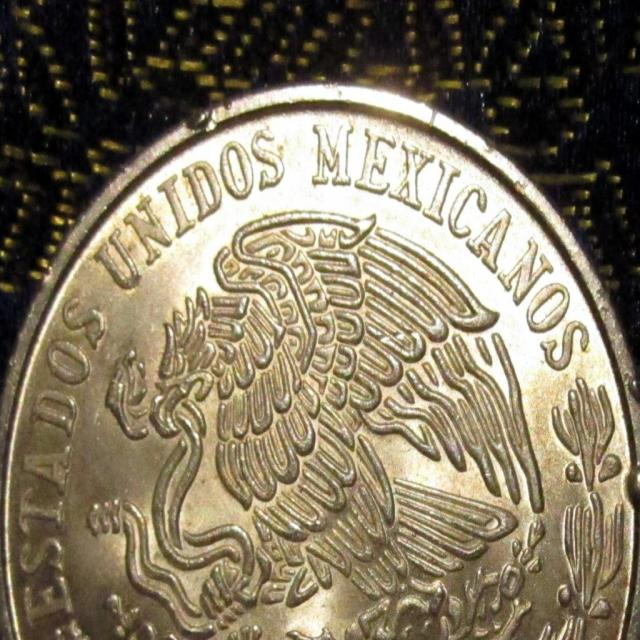Coin: (0, 78, 639, 639)
